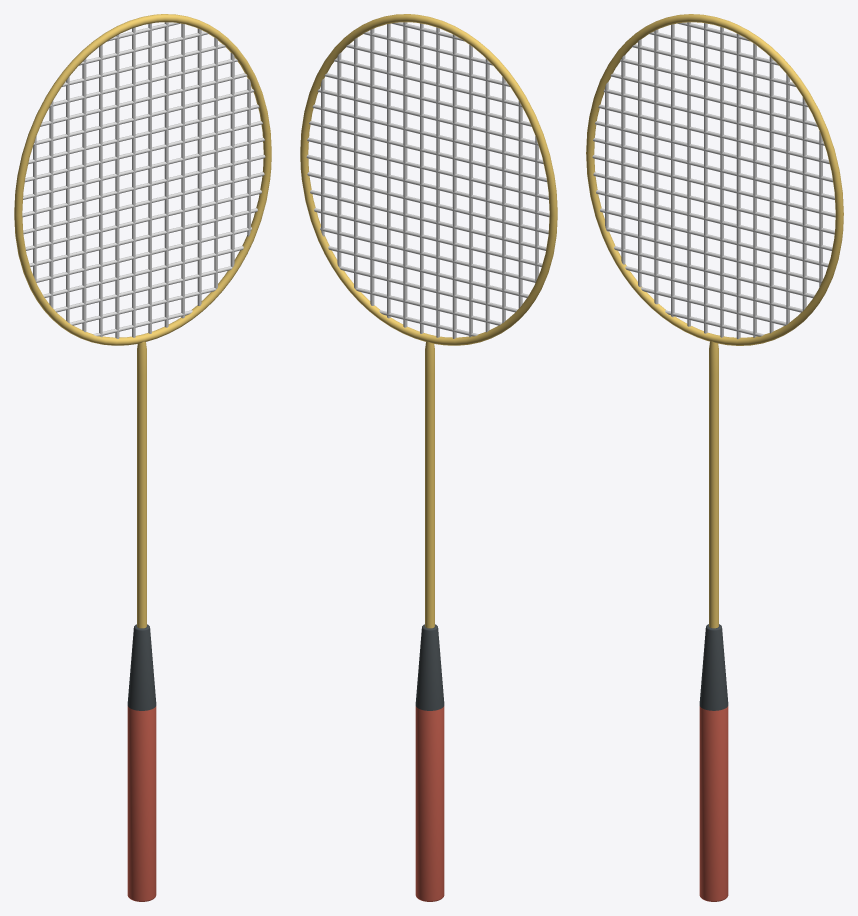
Rendered from badminton racket.fbx.
3 renders of one model, left to right at view 1: azimuth 30°, elevation 25°; view 2: azimuth 150°, elevation 25°; view 3: azimuth 330°, elevation 25°, orthographic.
Visible parts, largest first — view 1: badminton_racket; view 2: badminton_racket; view 3: badminton_racket.
Boxes of the visible parts, x1=… form: badminton_racket: x1=14, y1=14, x2=271, y2=901; badminton_racket: x1=300, y1=14, x2=557, y2=901; badminton_racket: x1=586, y1=14, x2=843, y2=901.
Size of the model in its own units: 218 by 714 by 21.26.
